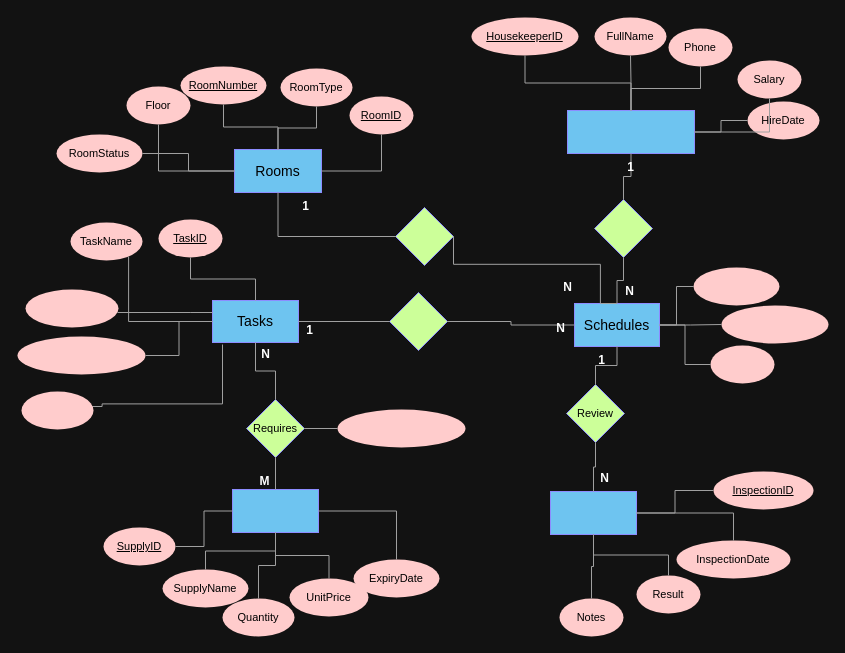
Image size: 845x653. Some labels were removed from this diagram. Here are the shapes that lost their labels. From the top down, the centre of each, then its label:
At (630,132): "HouseKeepers".
At (424,236): "Book".
At (623,228): "Assign".
At (736,286): "ScheduleID".
At (71,308): "Description".
At (418,321): "Perform".
At (774,324): "ScheduledDate".
At (81,355): "EstimatedMinutes".
At (742,364): "Status".
At (57,410): "Priority".
At (401,428): "QuantityRequired".
At (275,510): "Supplies".
At (593,512): "Inspections".
